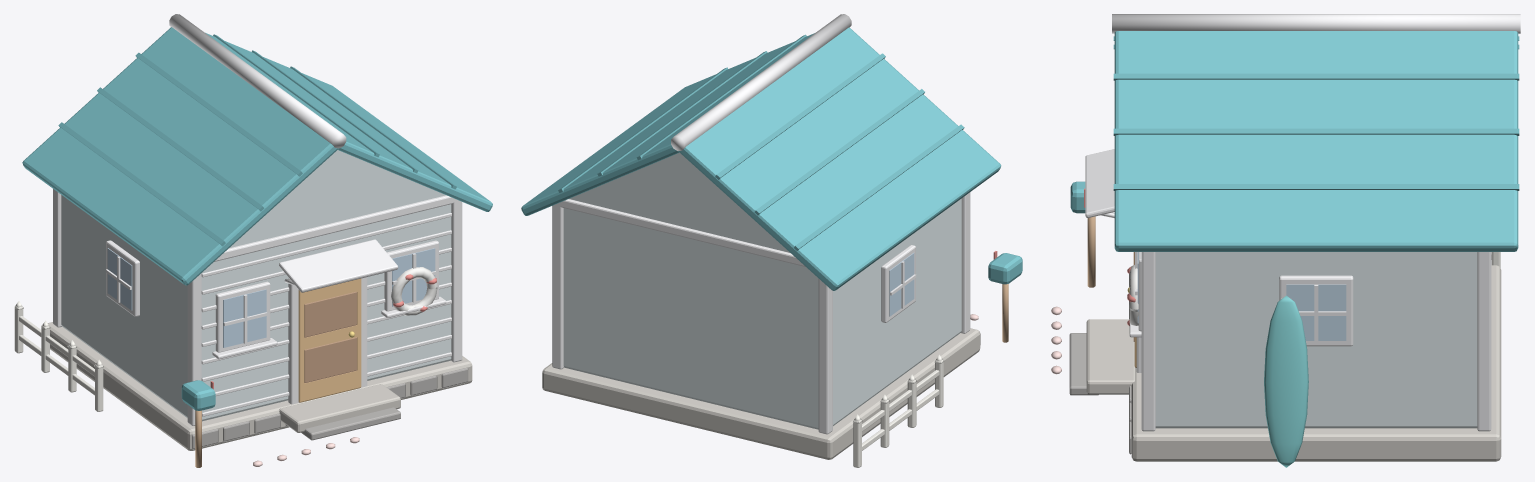
The model's file is casa_marina.glb.
3 renders of one model, left to right at view 1: azimuth 30°, elevation 25°; view 2: azimuth 150°, elevation 25°; view 3: azimuth 270°, elevation 25°, orthographic. The views are drawn at different scales.
Parts seen in each view (by area): view 1: casa_marina; view 2: casa_marina; view 3: casa_marina.
Boxes of the visible parts, box(x1,y1,x2,y2) form: casa_marina: box(14, 14, 492, 467); casa_marina: box(521, 14, 1022, 467); casa_marina: box(1051, 14, 1520, 467).
Size of the model in its own units: 4.74 by 4.01 by 4.7.
